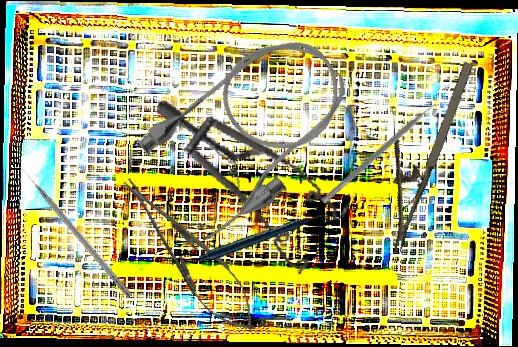Cannula: (126, 12, 375, 253)
Handpiece: (197, 184, 331, 294)
Hook Surgical: (15, 161, 134, 299)
Needle Holder: (108, 164, 272, 346), (355, 48, 479, 255)
Spatula Surgical: (321, 98, 442, 209)
Speculum: (129, 98, 364, 283)
